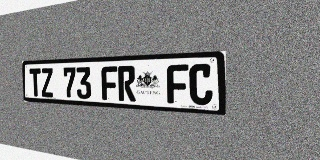3: (76, 67, 91, 99)
7: (62, 67, 77, 99)
C: (189, 64, 213, 105)
F: (167, 64, 189, 104), (101, 66, 118, 101)
R: (118, 66, 136, 102)
T: (29, 68, 42, 97)
Z: (41, 68, 54, 97)
